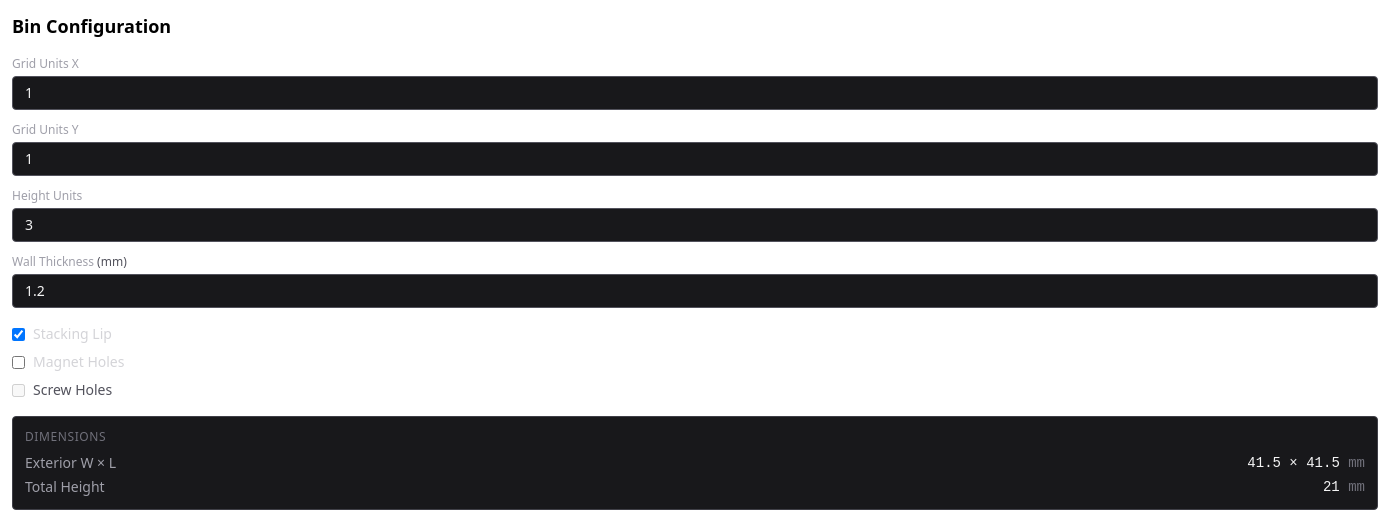
BinConfigPanel — interactions › updates displayed dimensions when gridUnitsX changes
Replace the text in the number field labelled "Grid Units X" with "2": (695,93) [12, 76, 1378, 110]
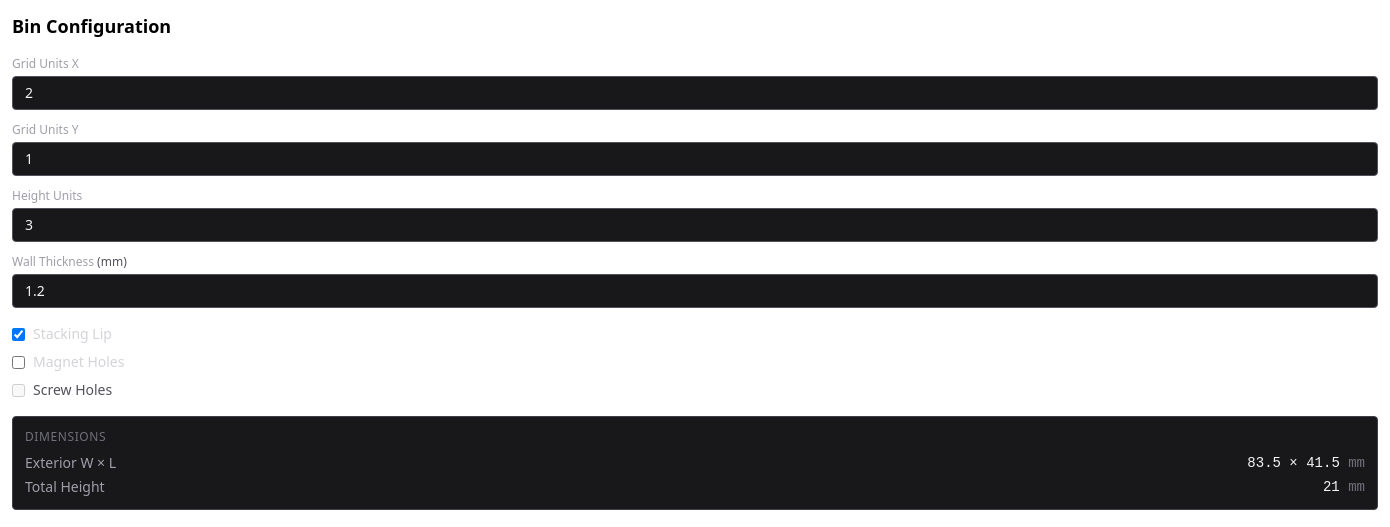
Now the text with test id "ext-width" reads "83.5", box [1247, 455, 1281, 471]
